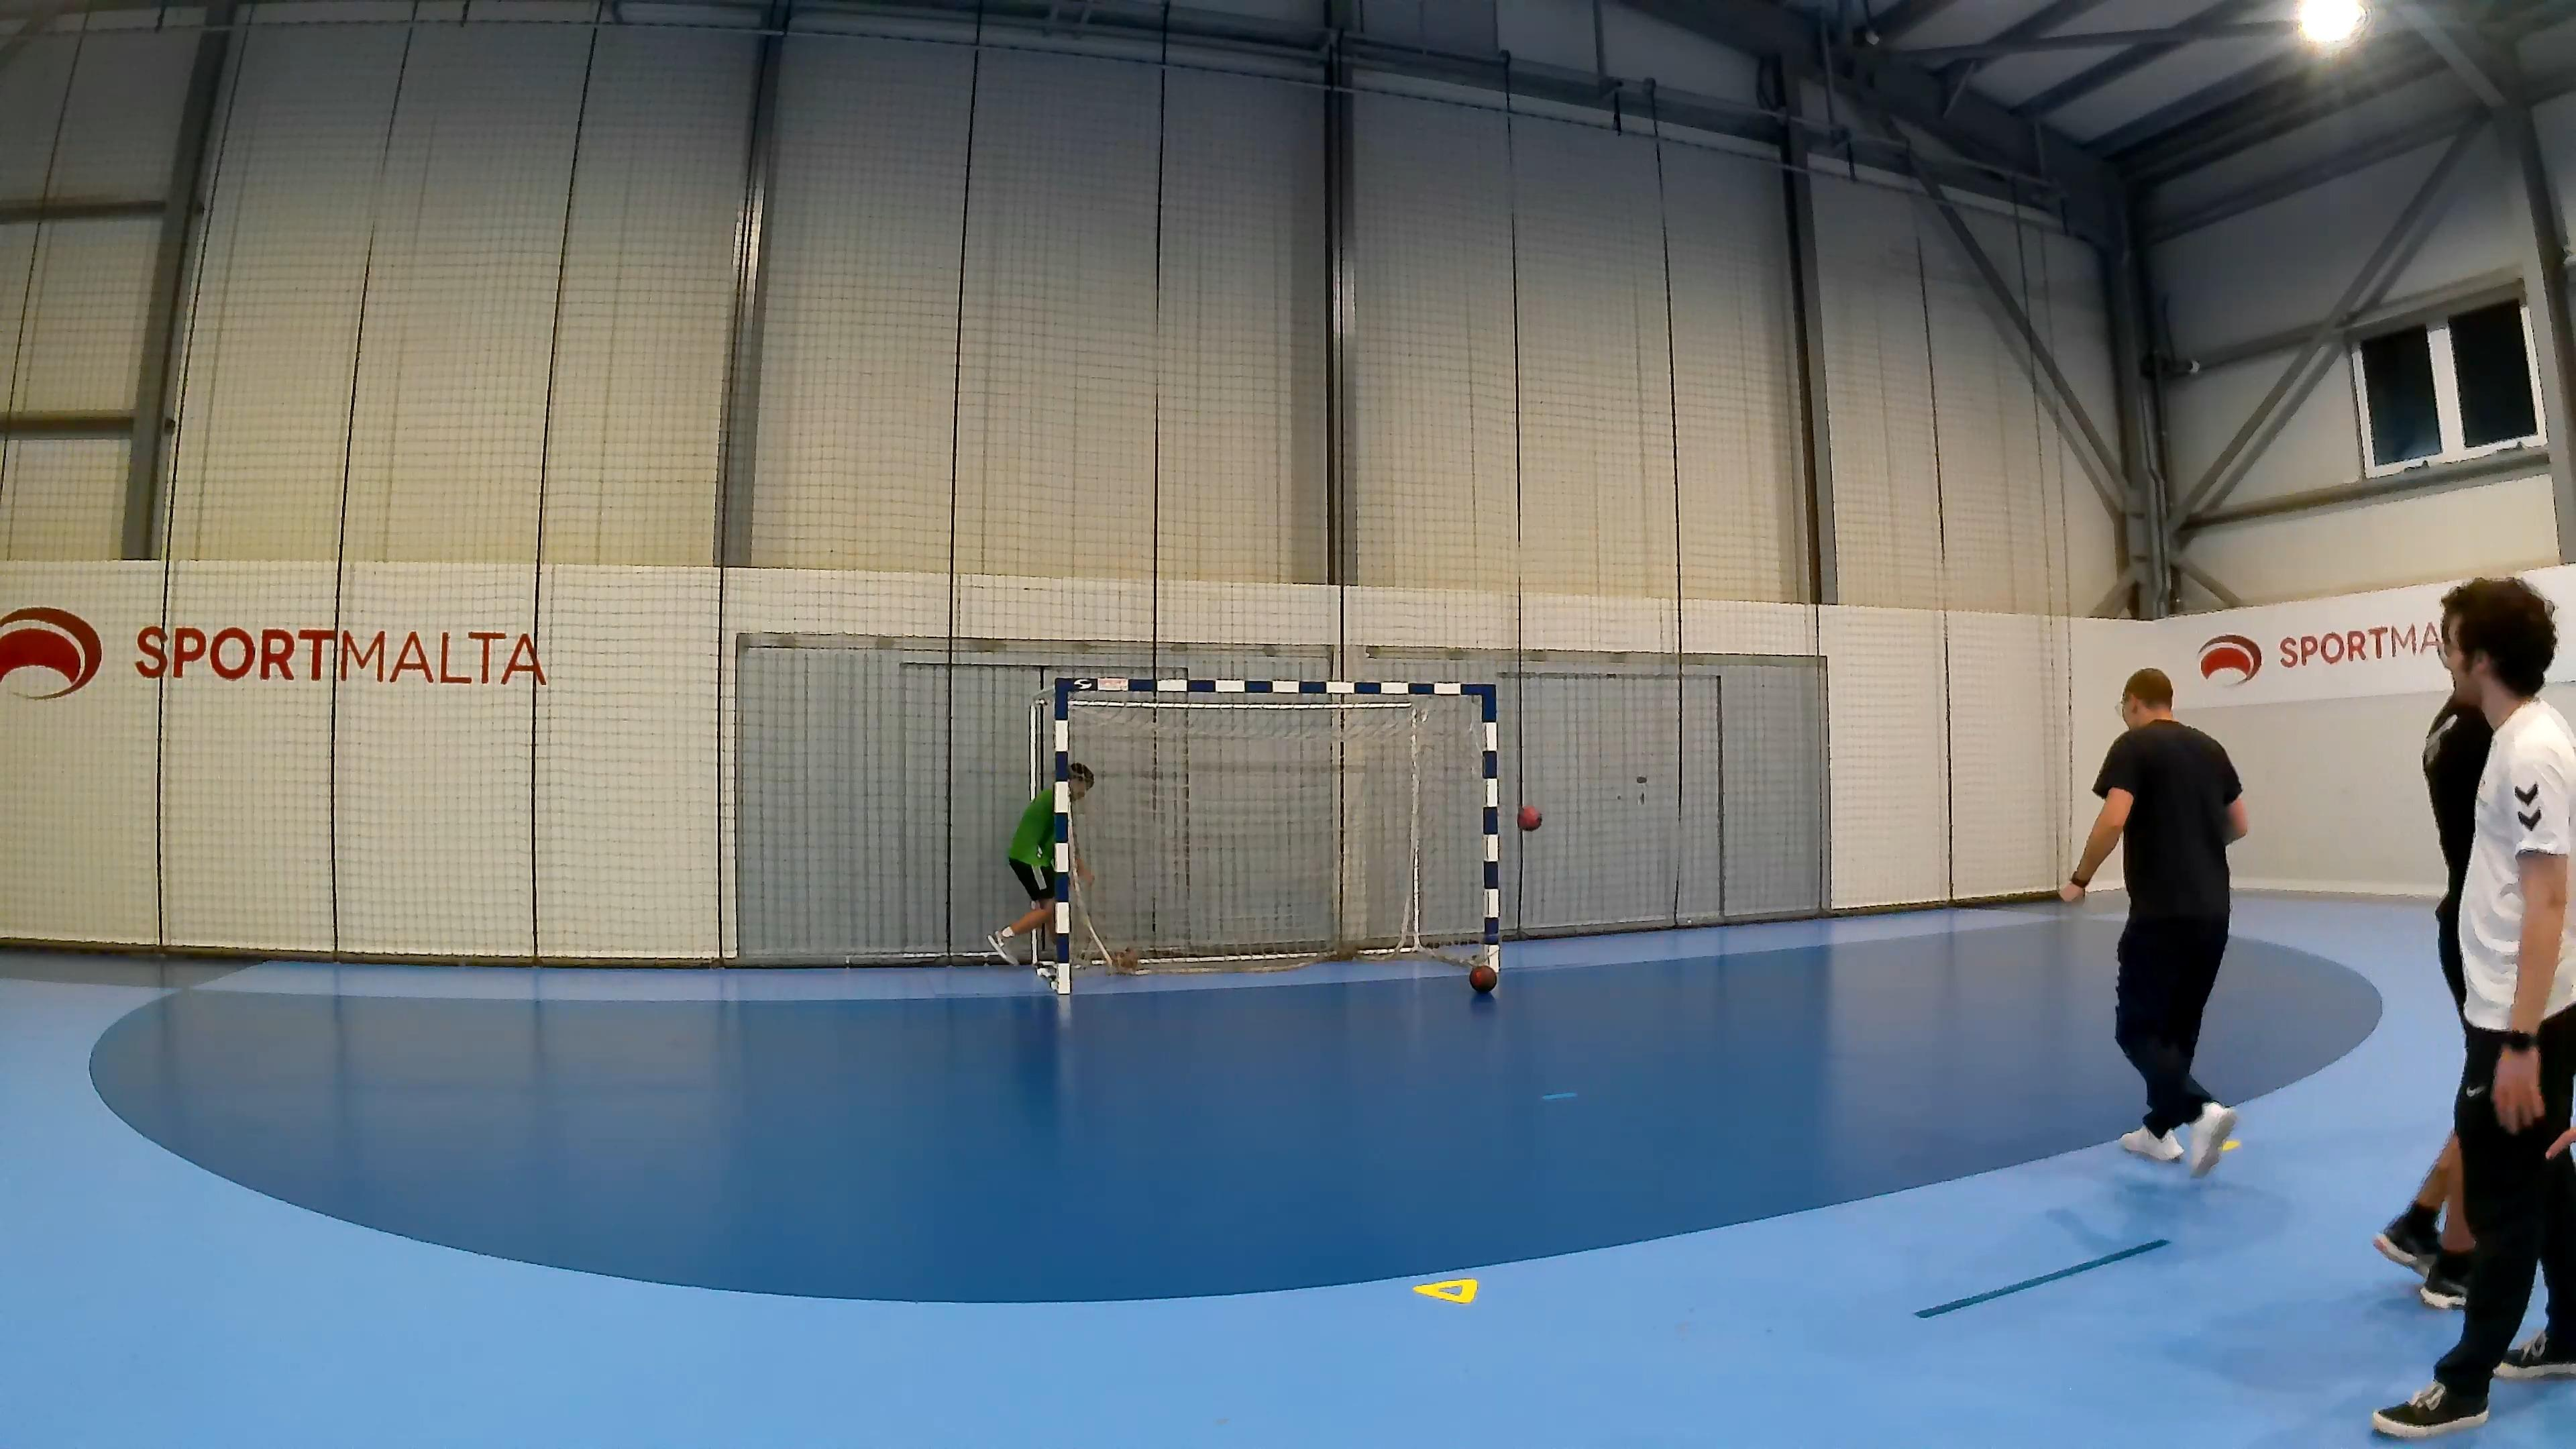handball: (1514, 803, 1550, 832), (1468, 962, 1497, 991)
